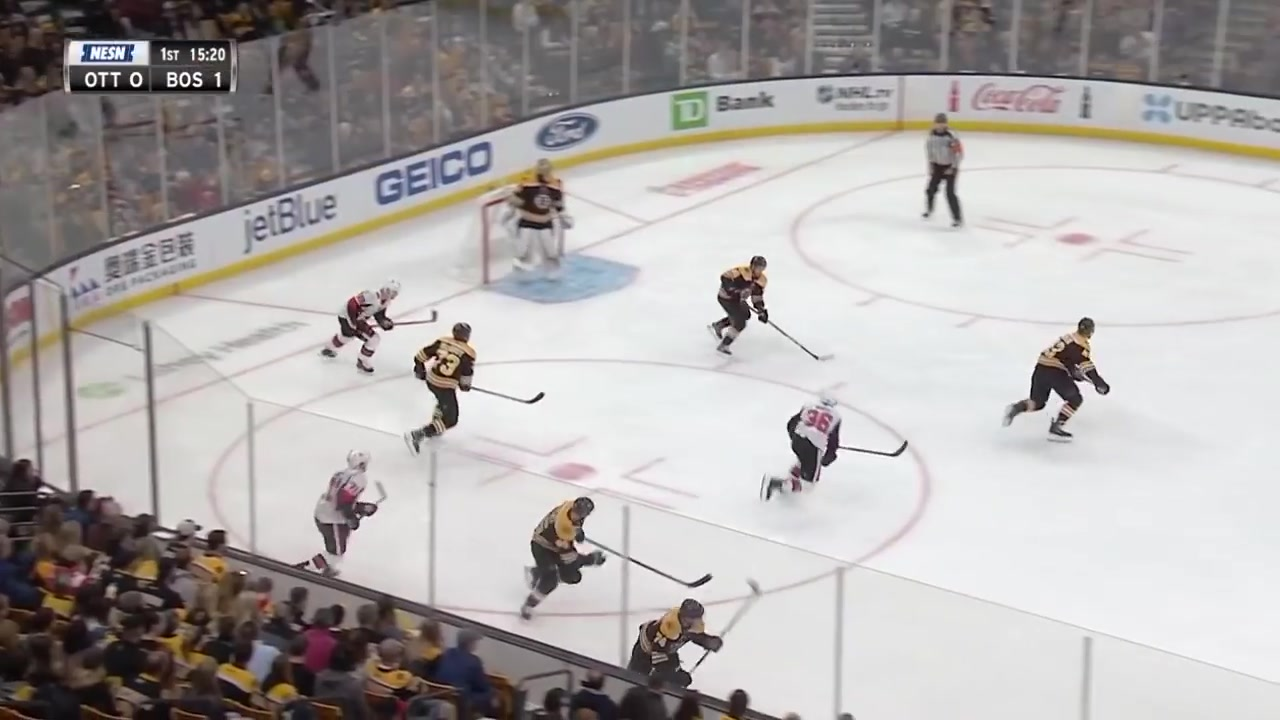geico: (374, 134, 498, 207)
